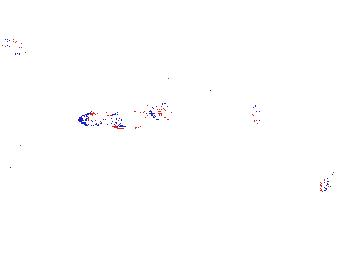X-ray fish: (318, 171, 346, 198)
red belly glassfish: (248, 100, 264, 126)
redtail glassfish: (77, 103, 171, 129), (108, 72, 177, 94)
